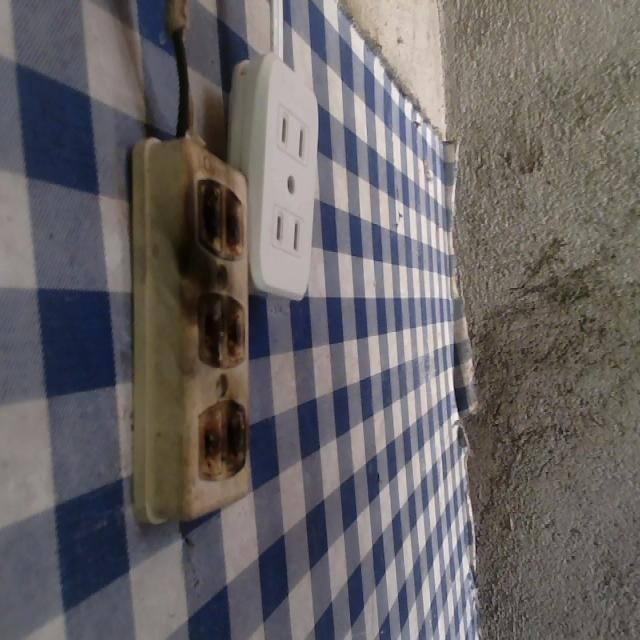-: (185, 176, 252, 259), (197, 290, 247, 382), (195, 399, 251, 481)
